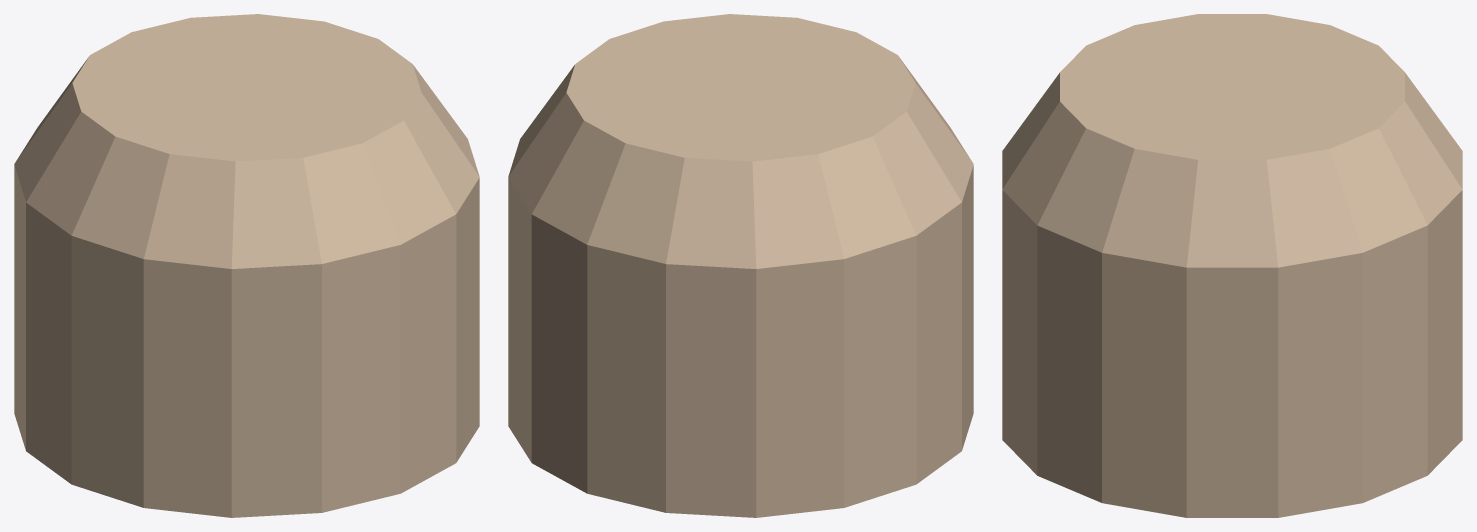
Rendered from vega_crew_s1_2_collider.obj.
The picture shows the model from 3 angles, left to right: view 1: azimuth 30°, elevation 25°; view 2: azimuth 150°, elevation 25°; view 3: azimuth 270°, elevation 25°; orthographic projection.
Parts seen in each view (by area): view 1: collider; view 2: collider; view 3: collider.
Boxes of the visible parts, x1=… form: collider: x1=14, y1=14, x2=479, y2=517; collider: x1=508, y1=14, x2=973, y2=517; collider: x1=1002, y1=14, x2=1462, y2=517.
Size of the model in its own units: 1.25 by 1 by 1.25.
